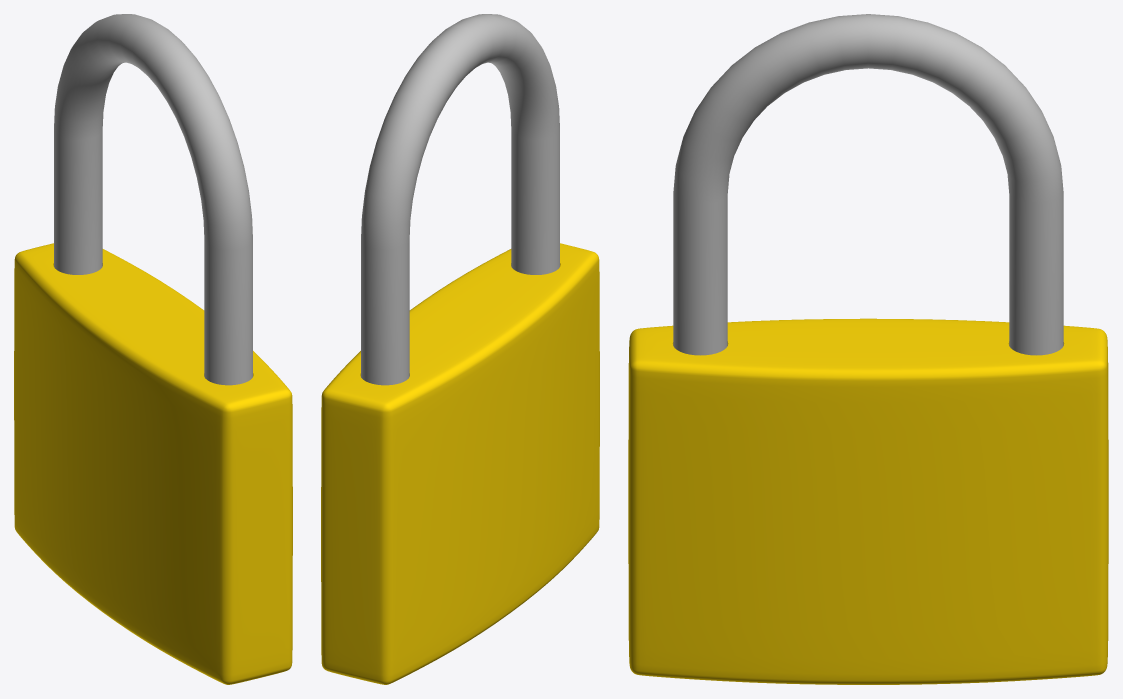
The model's file is Padlock_Gate.glb.
The picture shows the model from 3 angles, left to right: view 1: azimuth 30°, elevation 25°; view 2: azimuth 150°, elevation 25°; view 3: azimuth 270°, elevation 25°; orthographic projection. The views are drawn at different scales.
Visible parts, largest first — view 1: Cube, Circle; view 2: Cube, Circle; view 3: Cube, Circle.
Part boxes in pixels (x1,y1,x2,y2): Cube: (14, 243, 292, 684); Circle: (54, 14, 252, 385); Cube: (321, 243, 599, 684); Circle: (361, 14, 559, 385); Cube: (628, 318, 1108, 684); Circle: (673, 14, 1063, 355).
Bounding box in the file's own units: 0.5735 × 2.96 × 2.
